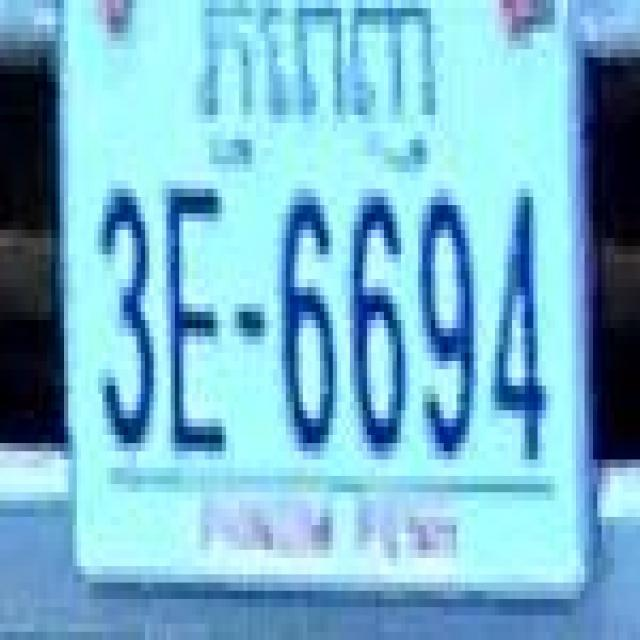Phnom_Penh: (201, 8, 443, 173)
